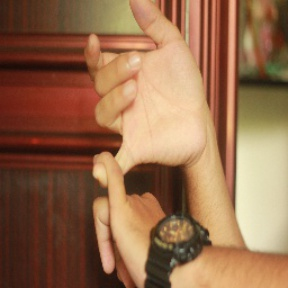S: (77, 1, 212, 282)
